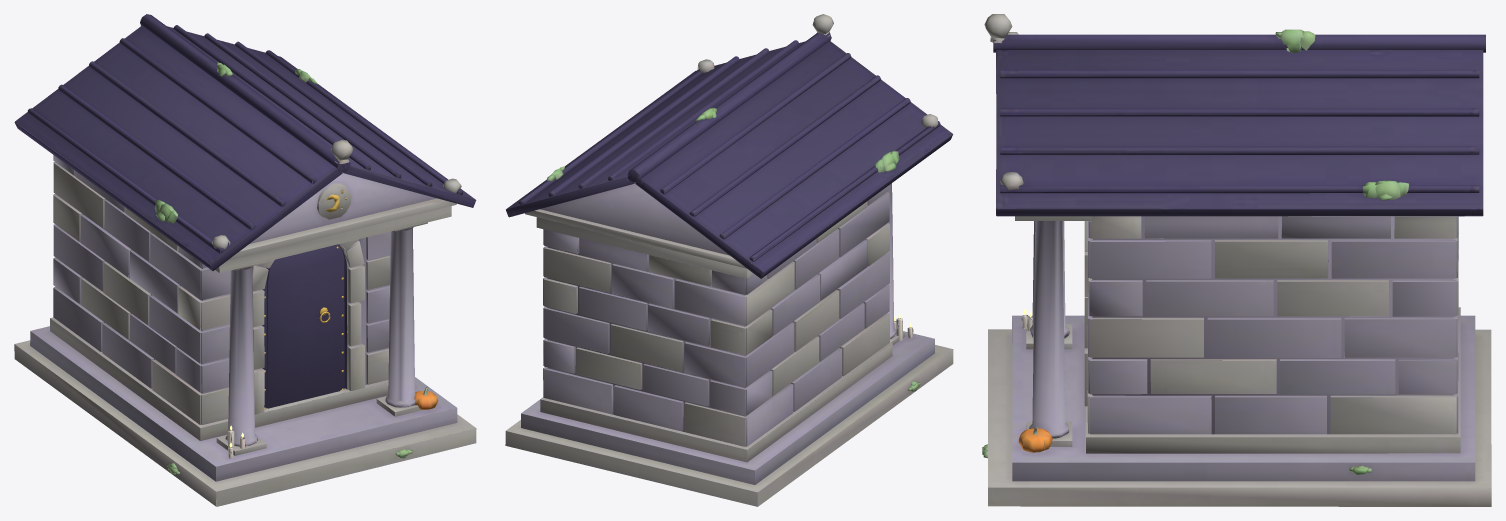
3 renders of one model, left to right at view 1: azimuth 30°, elevation 25°; view 2: azimuth 150°, elevation 25°; view 3: azimuth 270°, elevation 25°, orthographic. The views are drawn at different scales.
Visible parts, largest first — view 1: mausoleum_body, mausoleum_door; view 2: mausoleum_body; view 3: mausoleum_body.
Part boxes in pixels (left/top/right/bottom): mausoleum_body: left=14, top=14, right=476, bottom=506; mausoleum_door: left=262, top=244, right=344, bottom=409; mausoleum_body: left=505, top=14, right=953, bottom=506; mausoleum_body: left=982, top=14, right=1491, bottom=506.
Bounding box in the file's own units: 2.87 × 3.39 × 3.8.
Materials: 3 (2 with a texture image).
